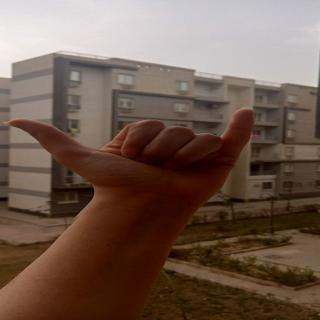YA: (15, 104, 278, 218), (20, 105, 87, 106)
